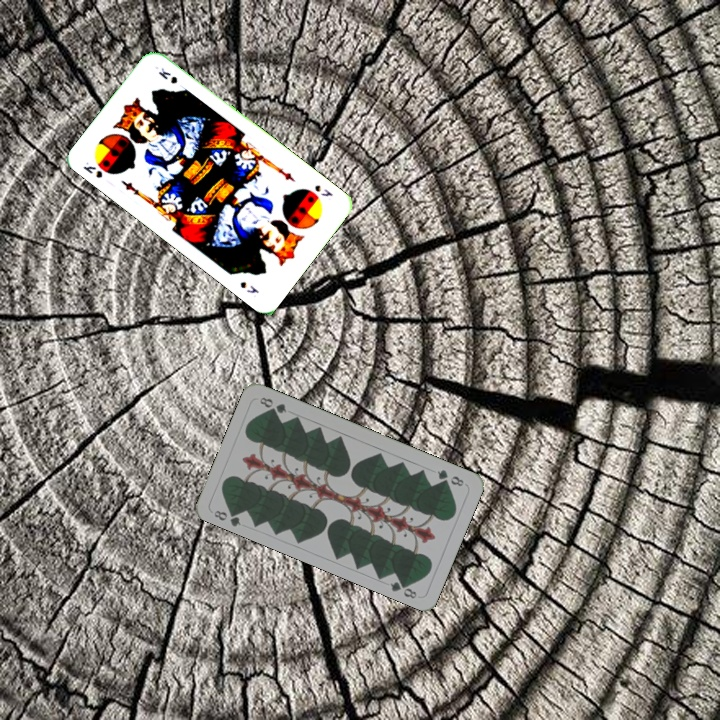G8: (433, 465, 466, 489), (210, 505, 243, 529)
SK: (79, 158, 105, 181), (311, 181, 336, 199)
